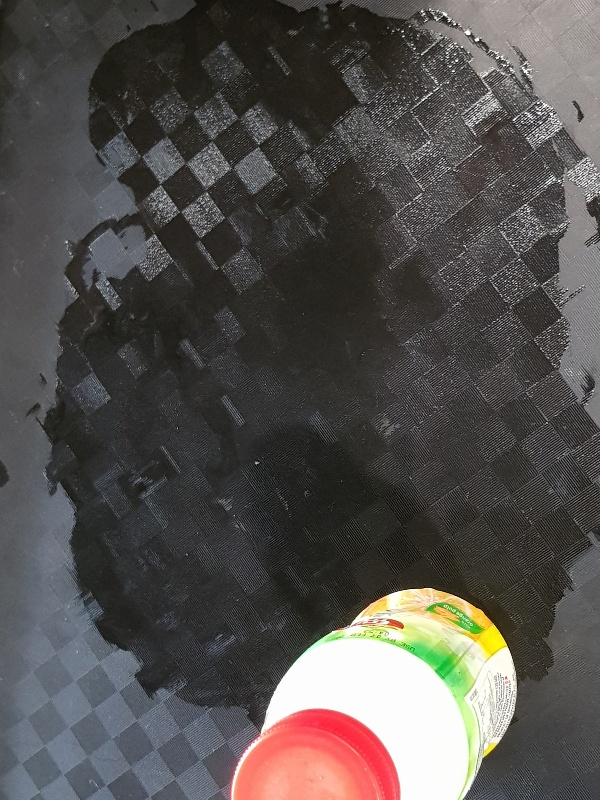Fruit Tree Yuzu Mixed Juice Drink: (231, 586, 518, 800)
